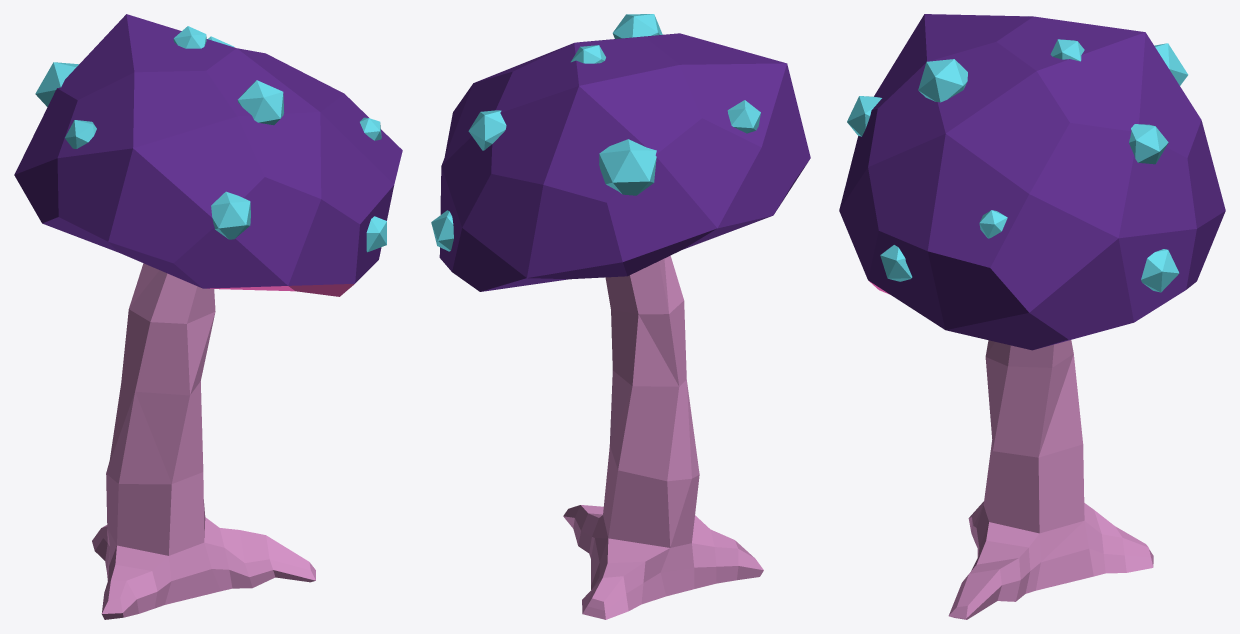
File: Mushroom_Tree_01.fbx
3 views of the same model, side by side, from view 1: azimuth 30°, elevation 25°; view 2: azimuth 150°, elevation 25°; view 3: azimuth 270°, elevation 25° (orthographic). The views are drawn at different scales.
Parts seen in each view (by area): view 1: Mushroom_Tree_01; view 2: Mushroom_Tree_01; view 3: Mushroom_Tree_01.
Boxes of the visible parts, left/top/right/bottom form: Mushroom_Tree_01: left=14, top=14, right=402, bottom=619; Mushroom_Tree_01: left=431, top=14, right=810, bottom=619; Mushroom_Tree_01: left=839, top=14, right=1225, bottom=619.
Size of the model in its own units: 343 by 507 by 325.
